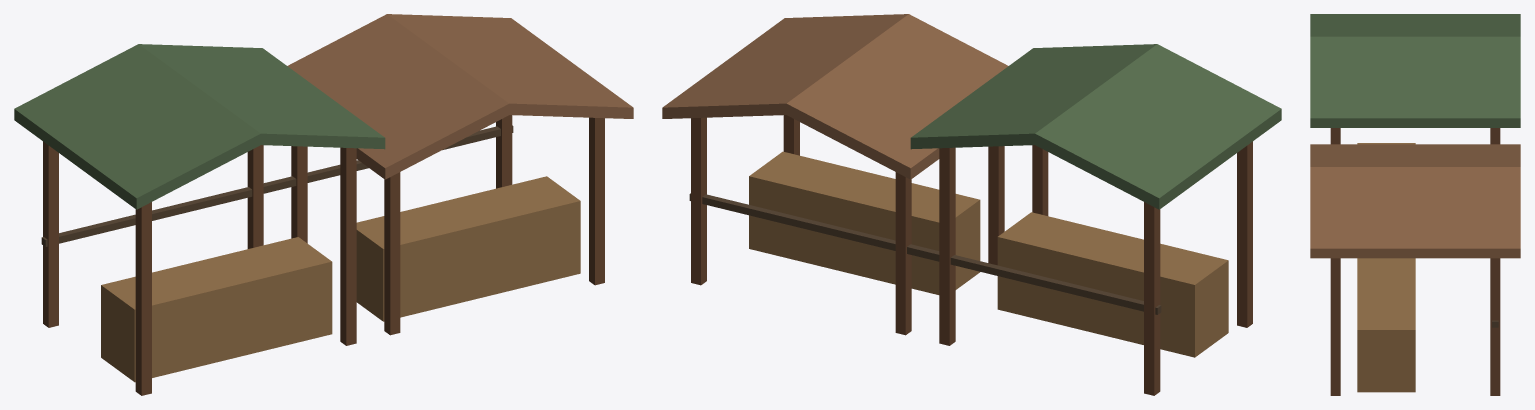
File: Building_Settlement_MarketStallPair_001_LOD1.glb
3 renders of one model, left to right at view 1: azimuth 30°, elevation 25°; view 2: azimuth 150°, elevation 25°; view 3: azimuth 270°, elevation 25°, orthographic. The views are drawn at different scales.
Parts seen in each view (by area): view 1: Building_Settlement_MarketStallPair_001_LOD1; view 2: Building_Settlement_MarketStallPair_001_LOD1; view 3: Building_Settlement_MarketStallPair_001_LOD1.
Boxes of the visible parts, left/top/right/bottom form: Building_Settlement_MarketStallPair_001_LOD1: left=14, top=14, right=633, bottom=395; Building_Settlement_MarketStallPair_001_LOD1: left=662, top=14, right=1281, bottom=395; Building_Settlement_MarketStallPair_001_LOD1: left=1310, top=14, right=1520, bottom=395.
Bounding box in the file's own units: 6.8 × 3.2 × 2.9.
